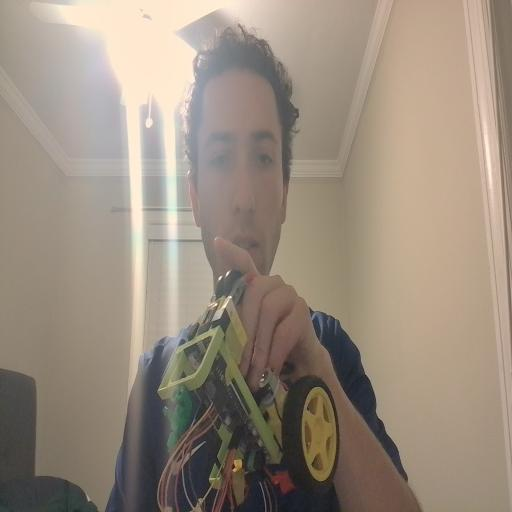green LEGO minifig: (162, 384, 195, 456)
